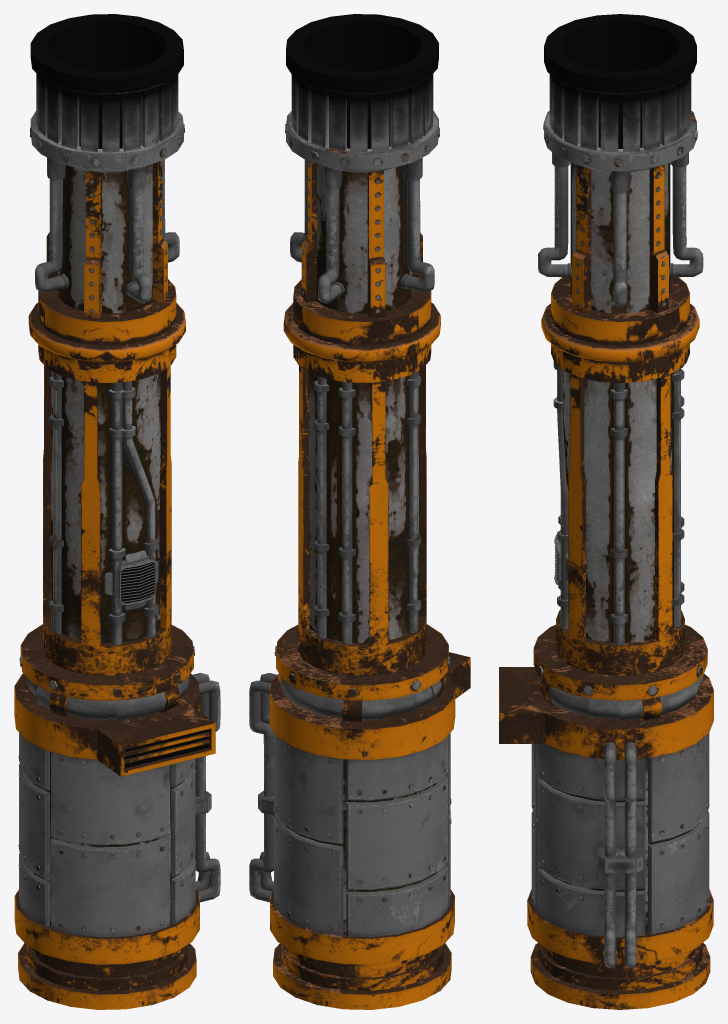
Rendered from Industrial_Chimney.fbx.
3 views of the same model, side by side, from view 1: azimuth 30°, elevation 25°; view 2: azimuth 150°, elevation 25°; view 3: azimuth 270°, elevation 25° (orthographic).
Parts seen in each view (by area): view 1: Base, Vent.002; view 2: Base; view 3: Base.
Part boxes in pixels (x1=…): Base: x1=14, y1=14, x2=220, y2=1009; Vent.002: x1=104, y1=550, x2=158, y2=609; Base: x1=249, y1=14, x2=470, y2=1009; Base: x1=499, y1=14, x2=713, y2=1009.
Size of the model in its own units: 528 by 2481 by 522.
